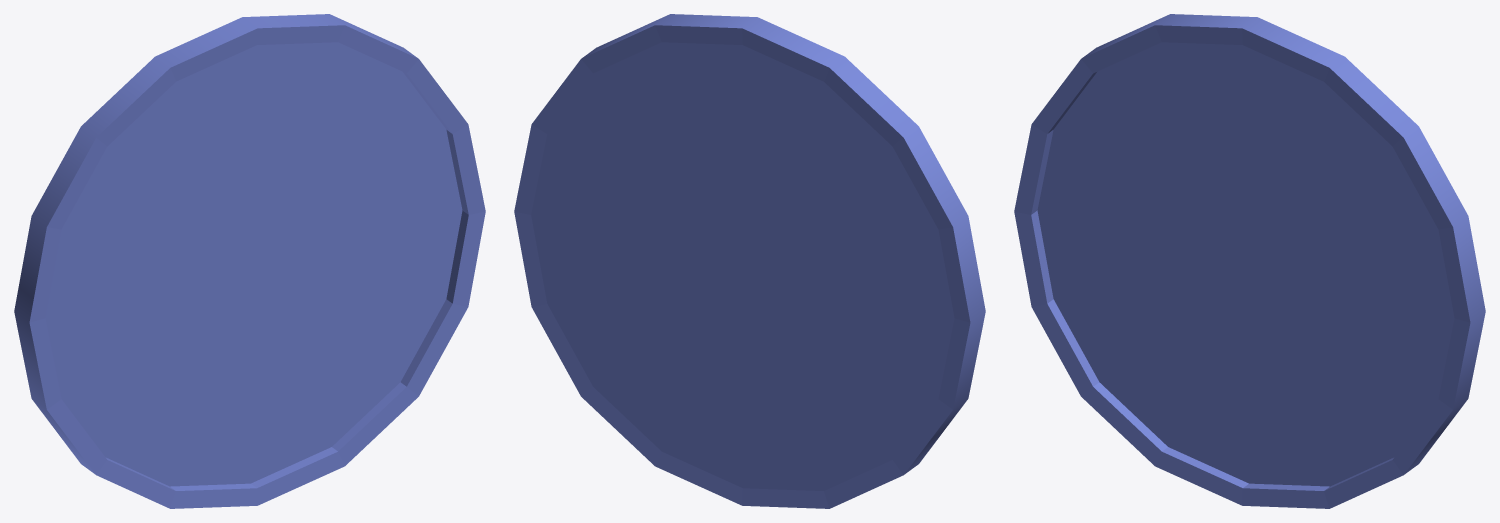
The model's file is tiraDardos.fbx.
The picture shows the model from 3 angles, left to right: view 1: azimuth 30°, elevation 25°; view 2: azimuth 150°, elevation 25°; view 3: azimuth 330°, elevation 25°; orthographic projection.
Visible parts, largest first — view 1: tiraDardos; view 2: tiraDardos; view 3: tiraDardos.
Part boxes in pixels (x1,y1,x2,y2): tiraDardos: (14,14,485,508); tiraDardos: (514,14,985,508); tiraDardos: (1014,14,1485,508).
Size of the model in its own units: 0.9159 by 0.9159 by 0.0533.
